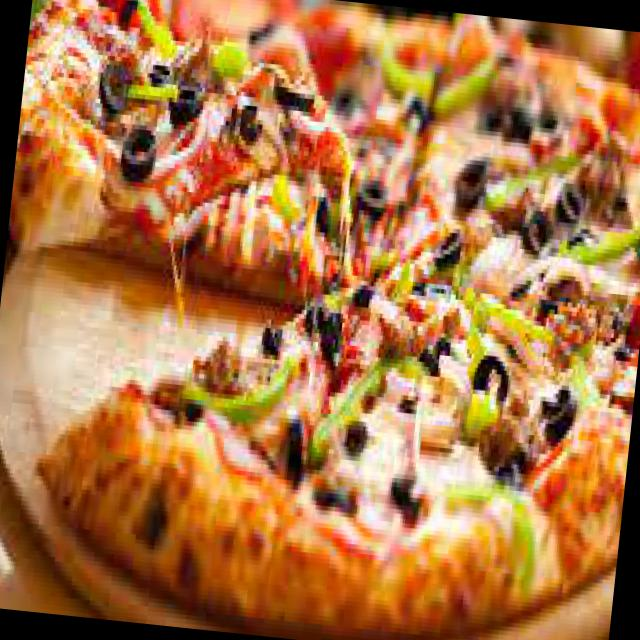pizza: (0, 0, 639, 637)
